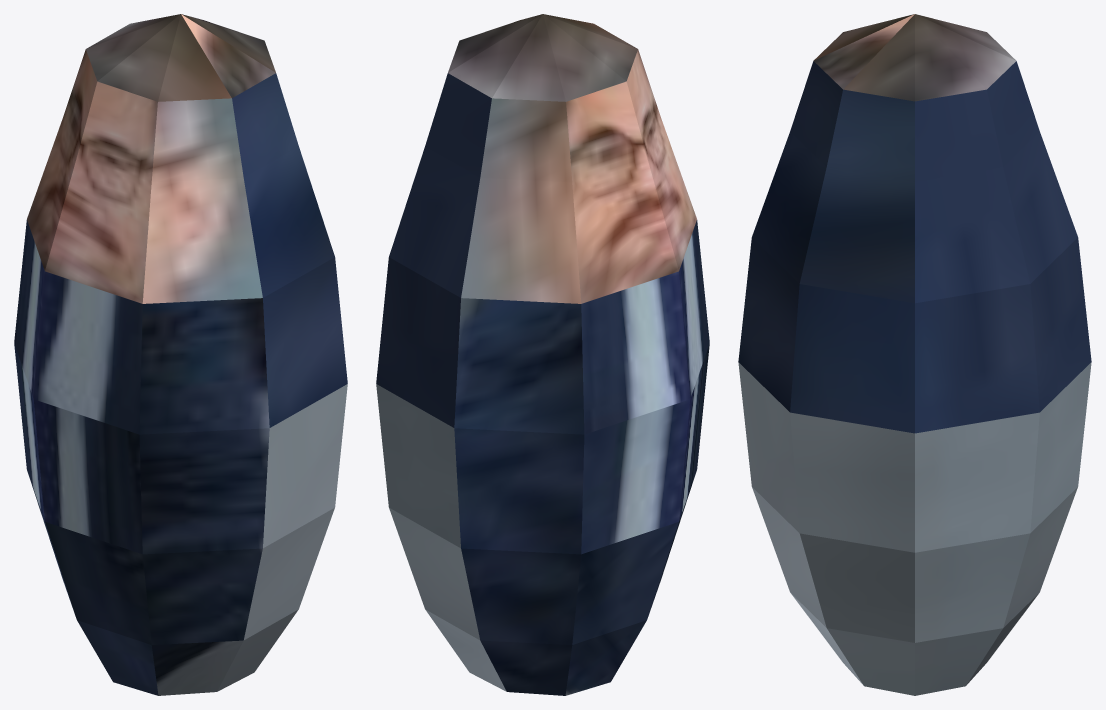
Rendered from man.glb.
3 views of the same model, side by side, from view 1: azimuth 30°, elevation 25°; view 2: azimuth 150°, elevation 25°; view 3: azimuth 270°, elevation 25° (orthographic).
Visible parts, largest first — view 1: Sphere; view 2: Sphere; view 3: Sphere.
Part boxes in pixels (x1,y1,x2,y2): Sphere: [14, 14, 347, 695]; Sphere: [376, 14, 709, 695]; Sphere: [738, 14, 1091, 695].
Bounding box in the file's own units: 0.9421 × 2.07 × 0.9824.
Materials: 1 (1 with a texture image).
